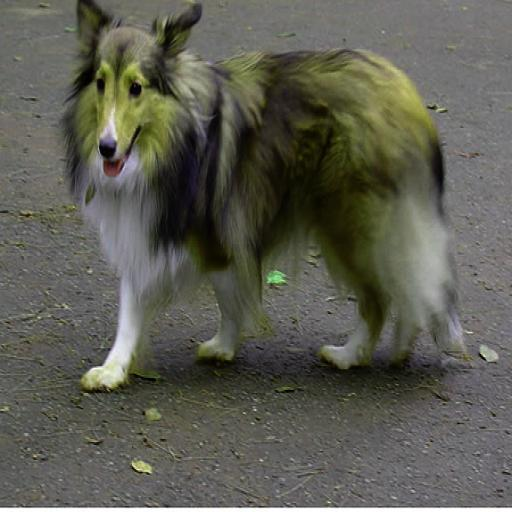dog_face: (70, 0, 197, 183)
